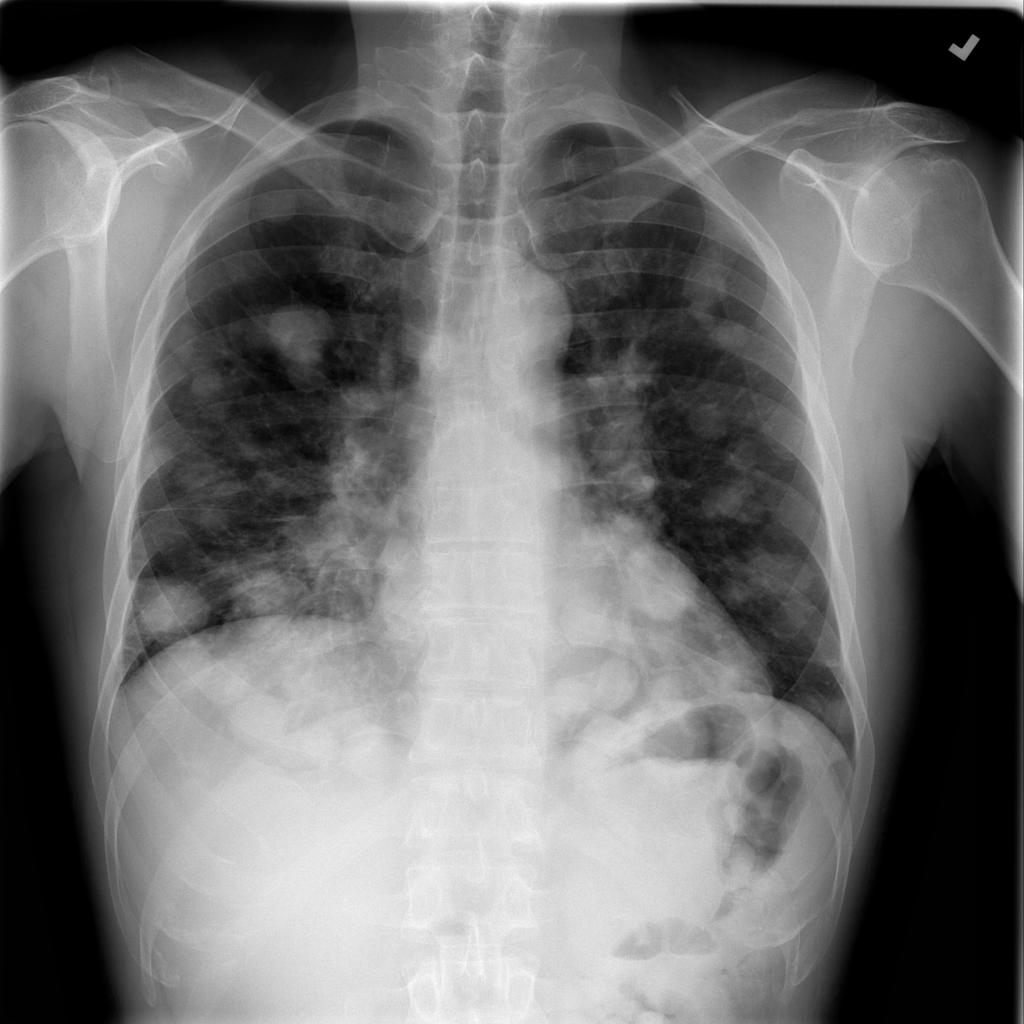nodule: (248, 280, 351, 397), (722, 540, 843, 629), (615, 542, 708, 622), (127, 574, 220, 644), (331, 714, 412, 790), (219, 688, 300, 757), (239, 165, 315, 238), (569, 653, 647, 724), (689, 469, 770, 537), (799, 679, 871, 755), (555, 588, 631, 658), (274, 718, 353, 783), (681, 296, 752, 368), (678, 389, 750, 456), (709, 427, 773, 501), (174, 354, 242, 423), (638, 670, 700, 713), (131, 432, 181, 481)
